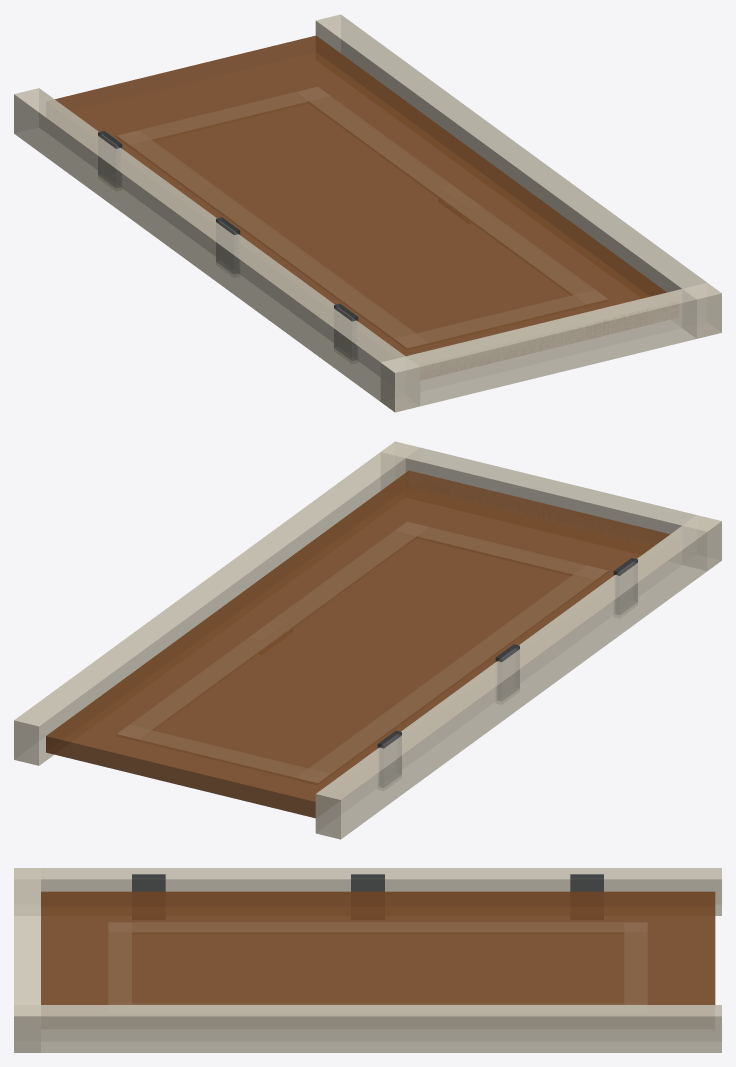
The model's file is interior_door.obj.
3 views of the same model, one above another, from view 1: azimuth 30°, elevation 25°; view 2: azimuth 150°, elevation 25°; view 3: azimuth 270°, elevation 25° (orthographic). The views are drawn at different scales.
Visible parts, largest first — view 1: interior_door; view 2: interior_door; view 3: interior_door.
Boxes of the visible parts, left/top/right/bottom form: interior_door: left=14, top=14, right=721, bottom=412; interior_door: left=14, top=441, right=721, bottom=839; interior_door: left=14, top=868, right=721, bottom=1052.
Size of the model in its own units: 1.04 by 0.14 by 2.1.
